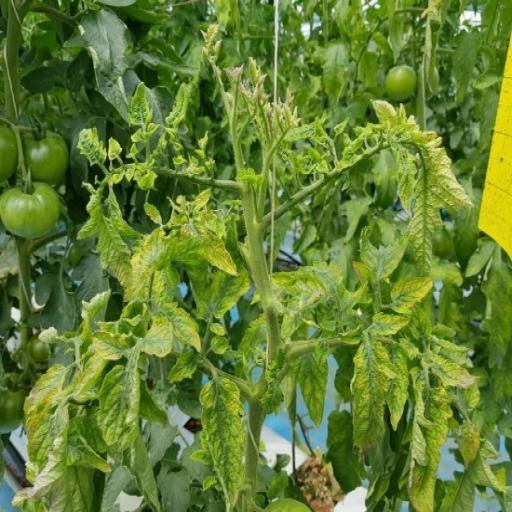disease_tomato: (6, 363, 76, 507), (408, 134, 474, 274), (196, 368, 250, 512), (405, 371, 456, 512), (346, 332, 396, 464), (74, 194, 134, 298), (98, 360, 142, 466), (196, 224, 240, 292), (154, 296, 208, 350), (417, 349, 483, 393), (296, 347, 330, 431), (386, 277, 434, 313), (137, 318, 177, 360), (89, 327, 121, 368), (128, 82, 154, 130)
